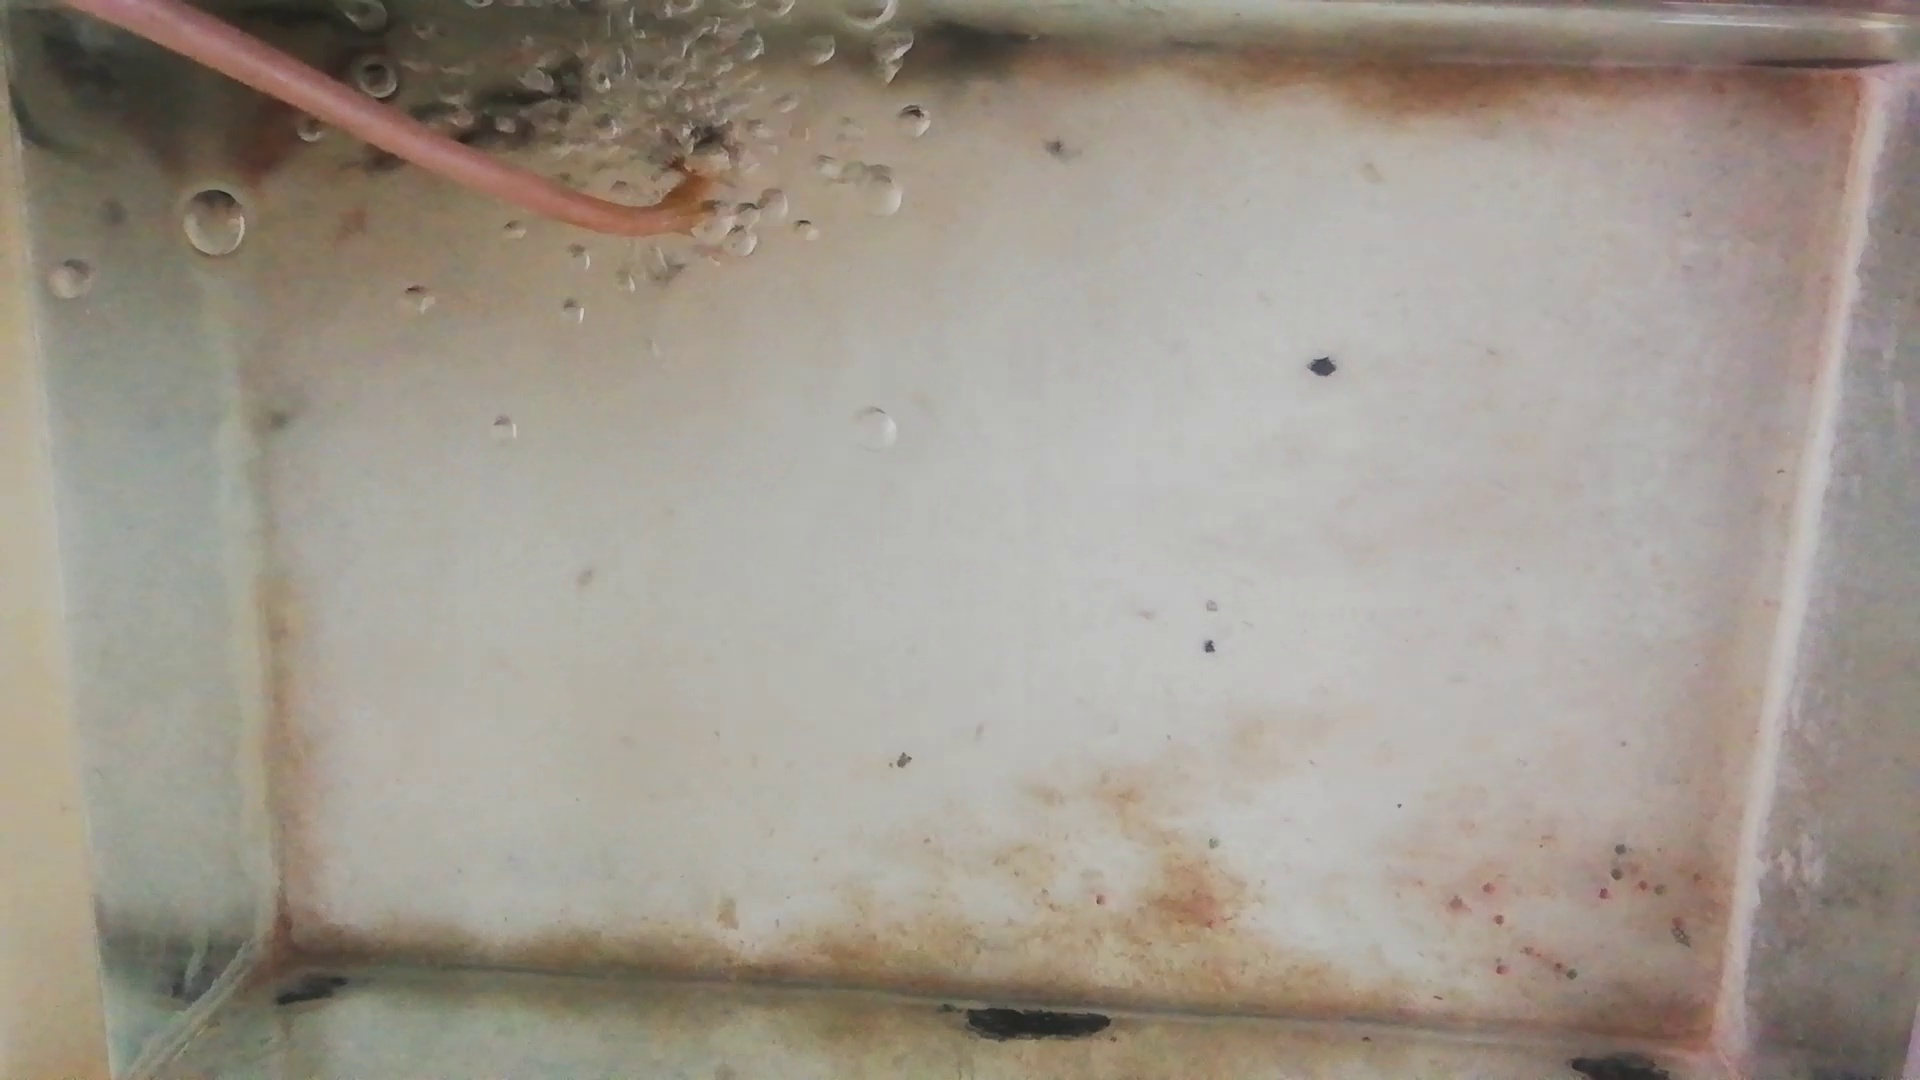fish: (426, 66, 591, 144), (237, 88, 322, 175)
